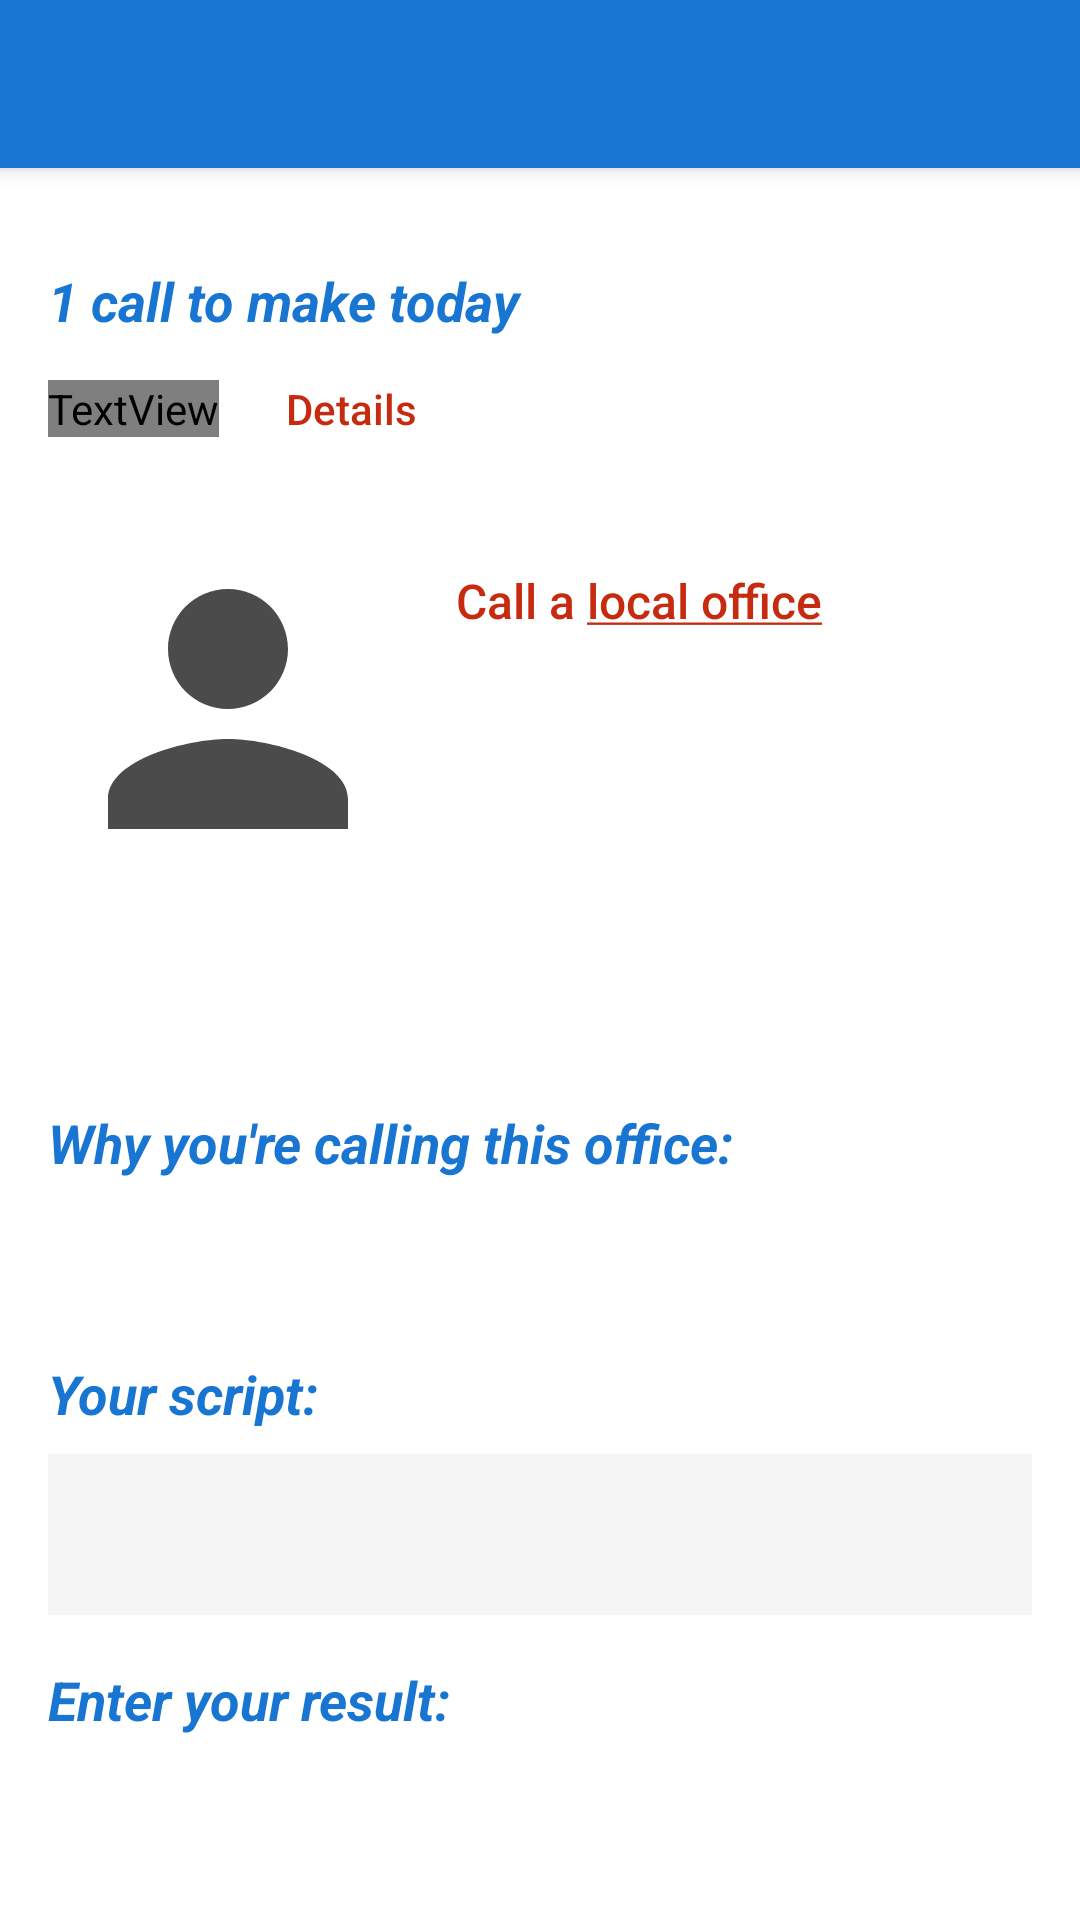

Named icons in this screenshot (1080 × 1920) and their centers, [x,y]:
person: [228,709]
